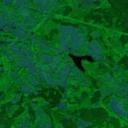alloviz: (68, 52, 95, 73)
